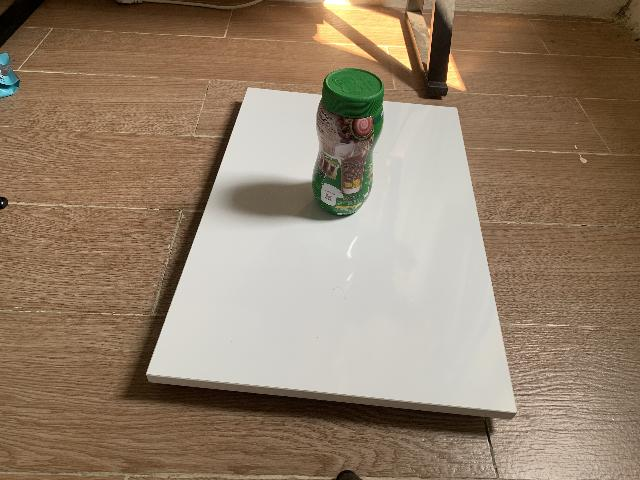milo: (311, 69, 385, 217)
